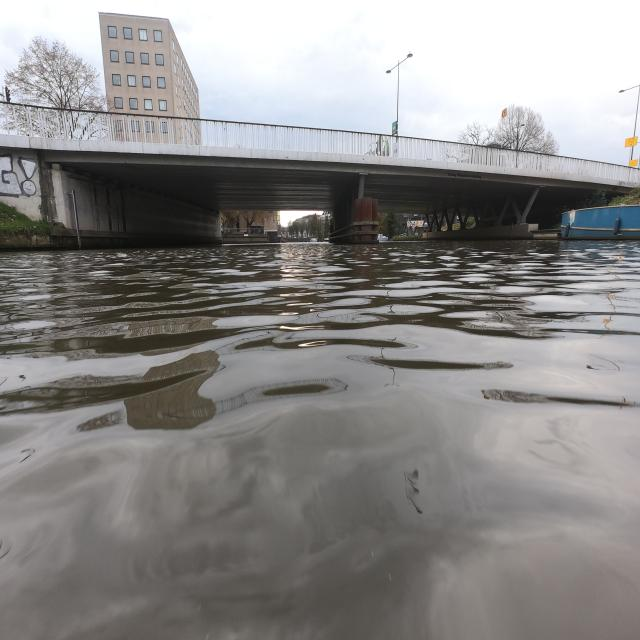boat: (561, 205, 640, 239)
dock: (532, 229, 561, 239)
grass: (2, 198, 54, 234)
wall: (42, 163, 220, 248), (423, 223, 538, 240)
water: (10, 242, 632, 640)
